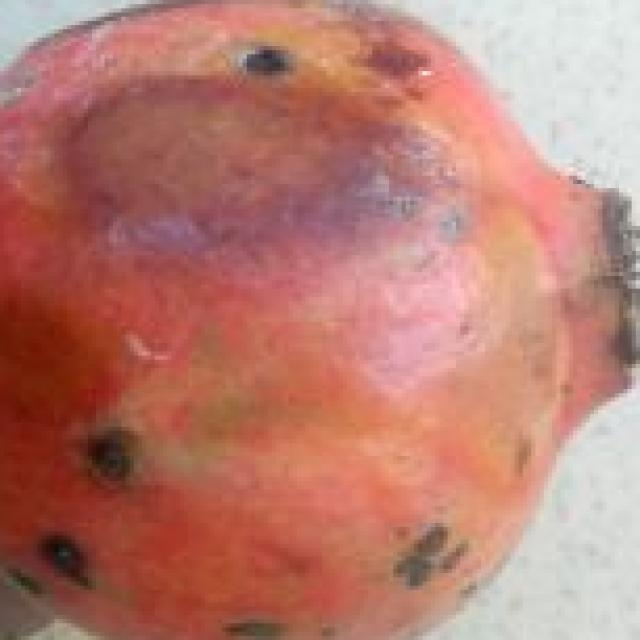Bad_Pomegranate-0-1-day: (0, 0, 640, 640)
